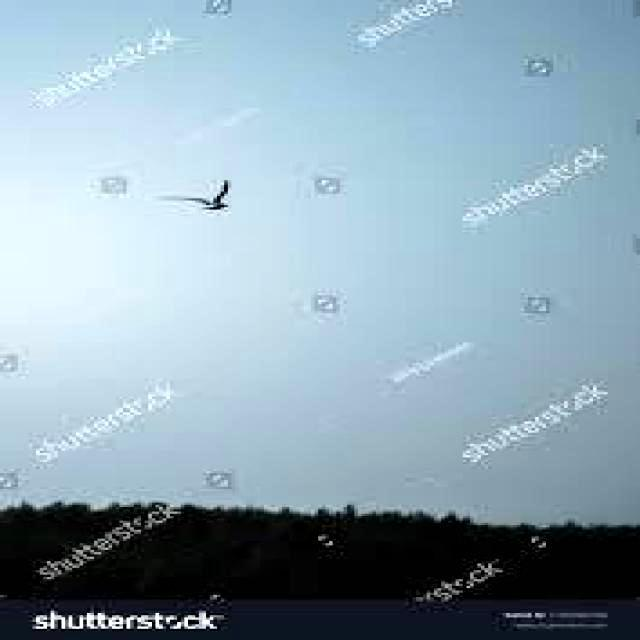bird: (164, 176, 244, 213)
